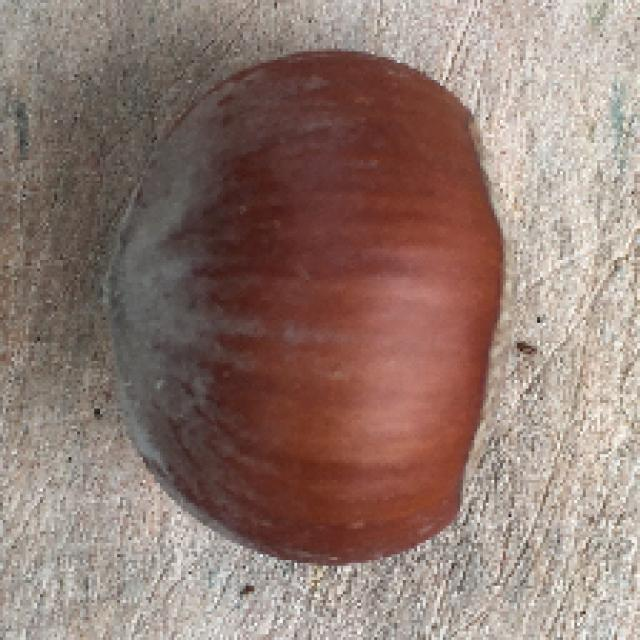qualityHazelnut: (104, 47, 521, 566)
